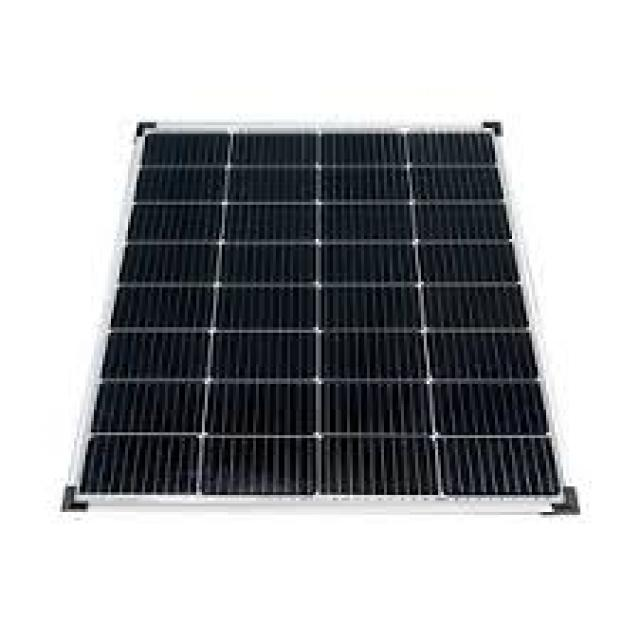no faulty: (109, 114, 553, 499)
